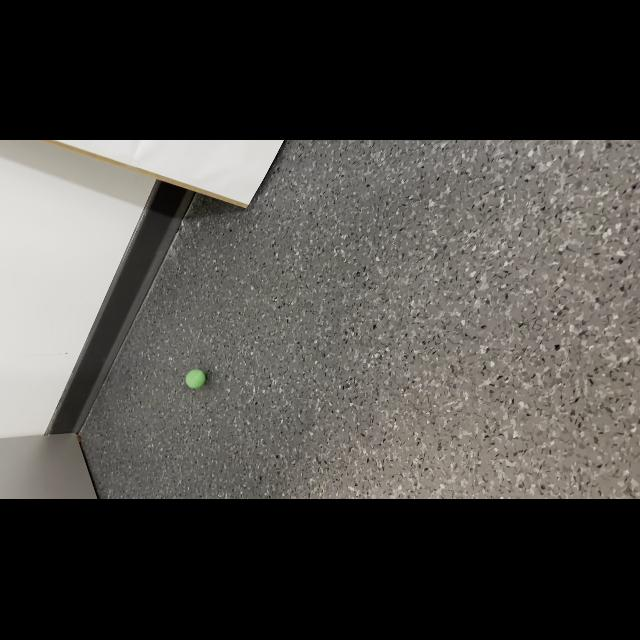objects: (184, 366, 206, 390)
